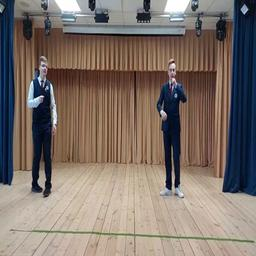person: (27, 56, 57, 197), (156, 59, 186, 198)
